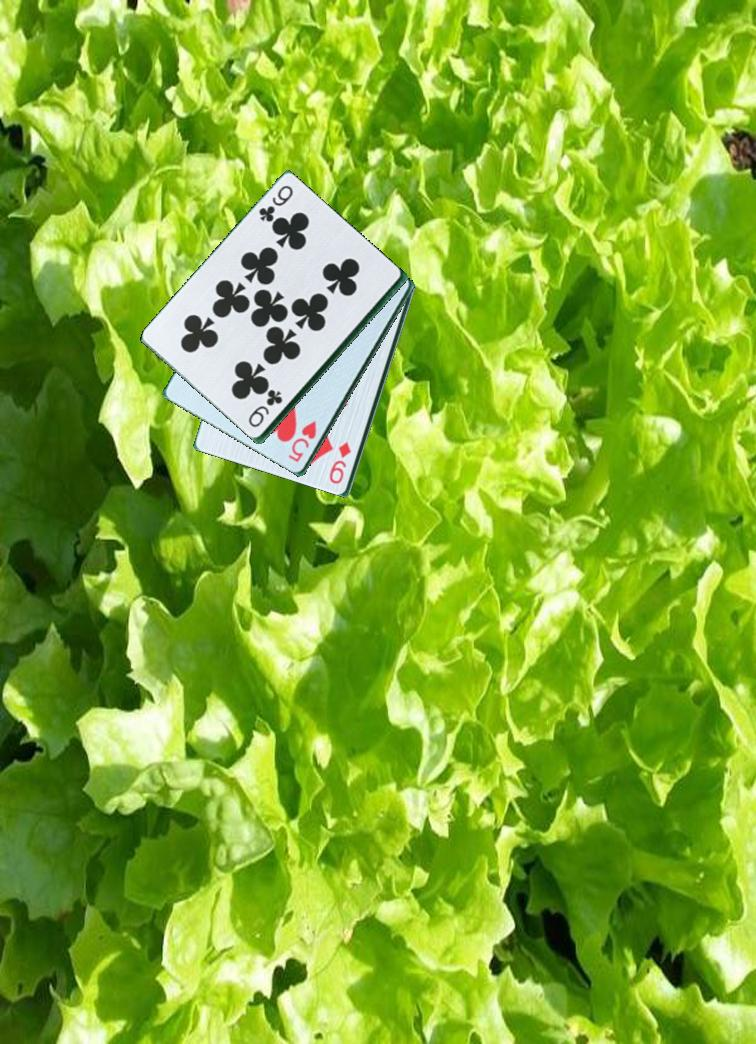5h: (285, 417, 320, 466)
9c: (255, 182, 296, 231), (245, 387, 286, 431)
9d: (326, 439, 354, 487)
